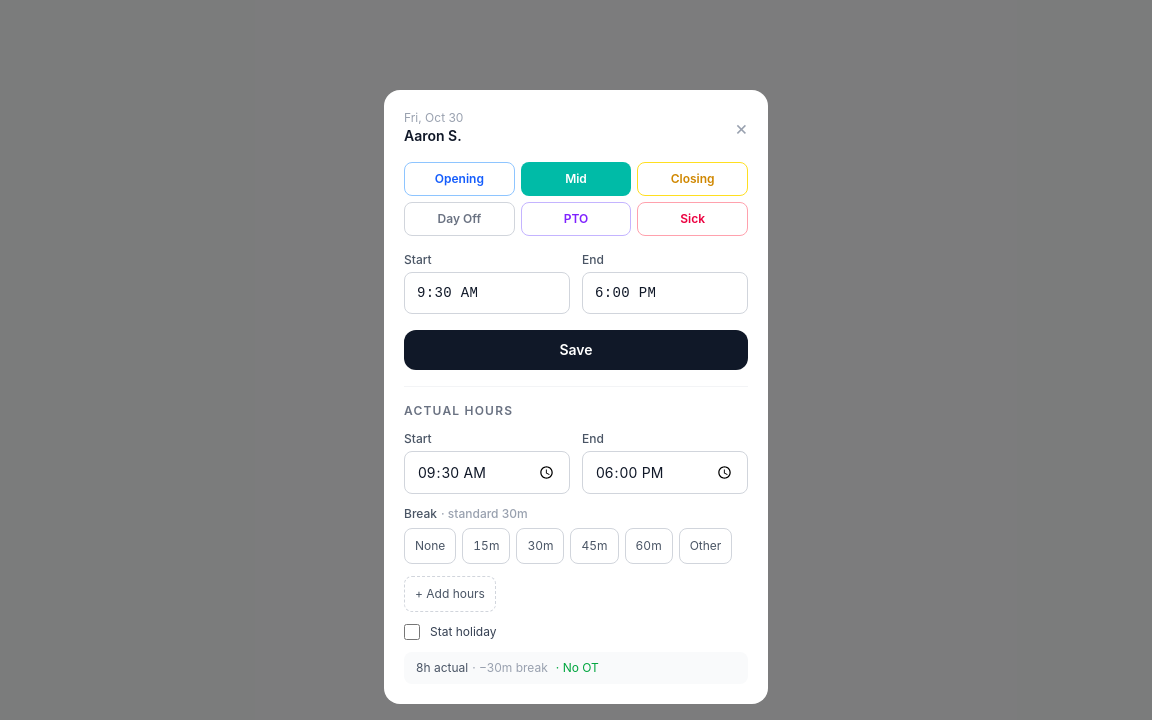
it: FlipShiftSheet — a day flipped to not worked › a [+] block with the same start and end is refused, not saved
The image size is (1152, 720).
Click the button "+ Add hours": click(450, 594) top-left (404, 576), bottom-right (496, 612)
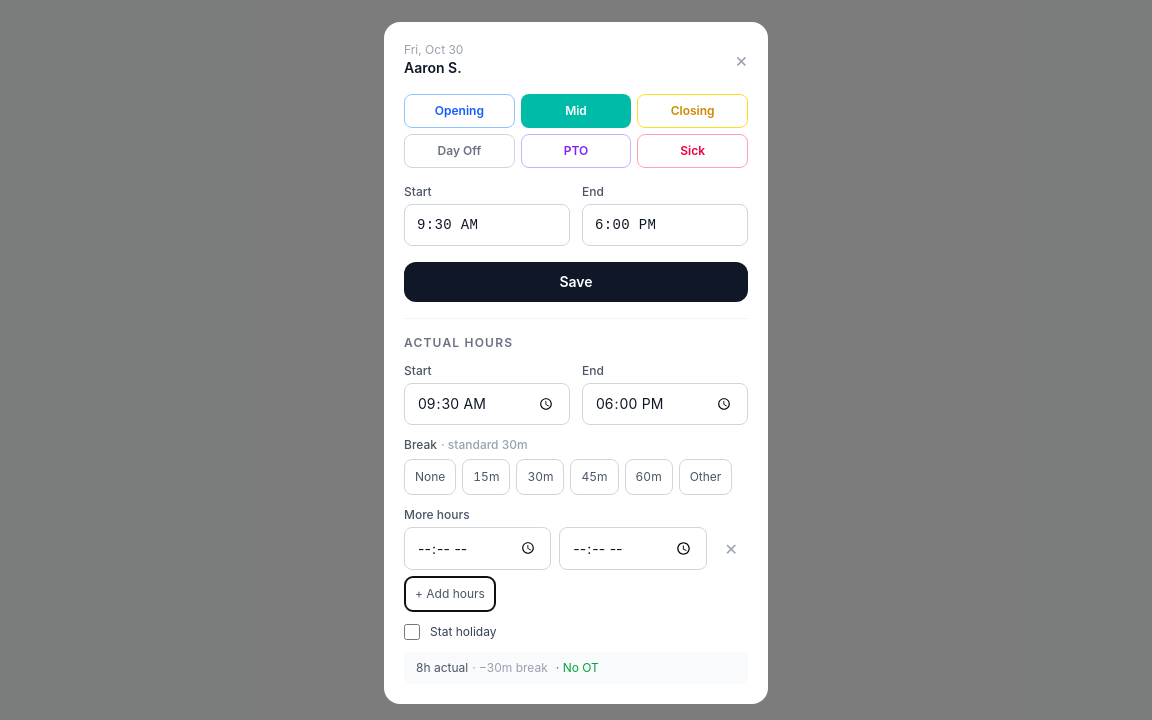
In the time field named "More hours 1 start": (478, 549) top-left (404, 527), bottom-right (551, 570), type "17:00"
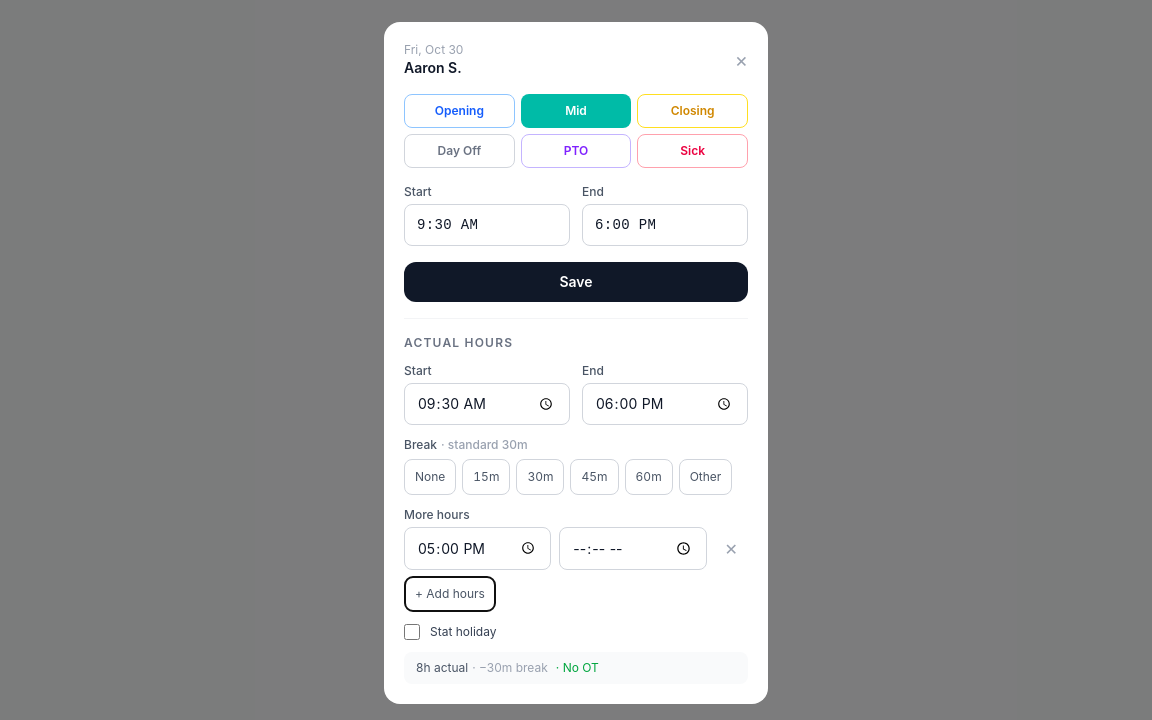
In the time field named "More hours 1 end": (633, 549) top-left (559, 527), bottom-right (707, 570), type "17:00"
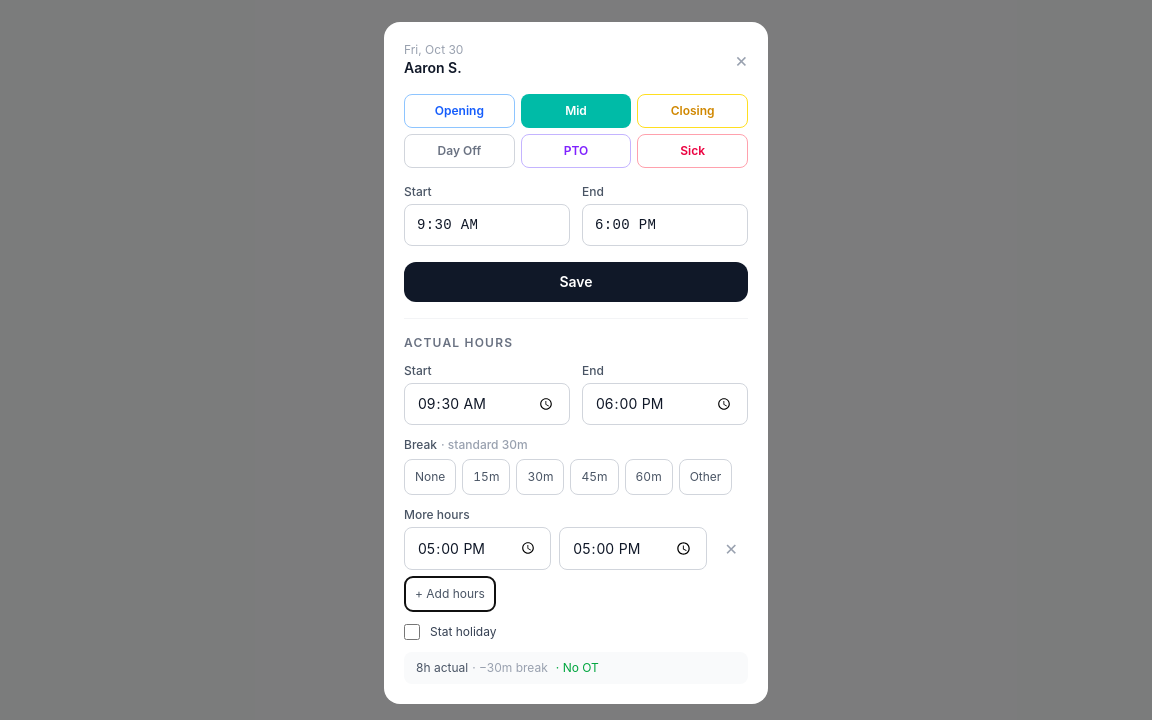
Click the button "Save": click(576, 282) top-left (404, 262), bottom-right (748, 302)
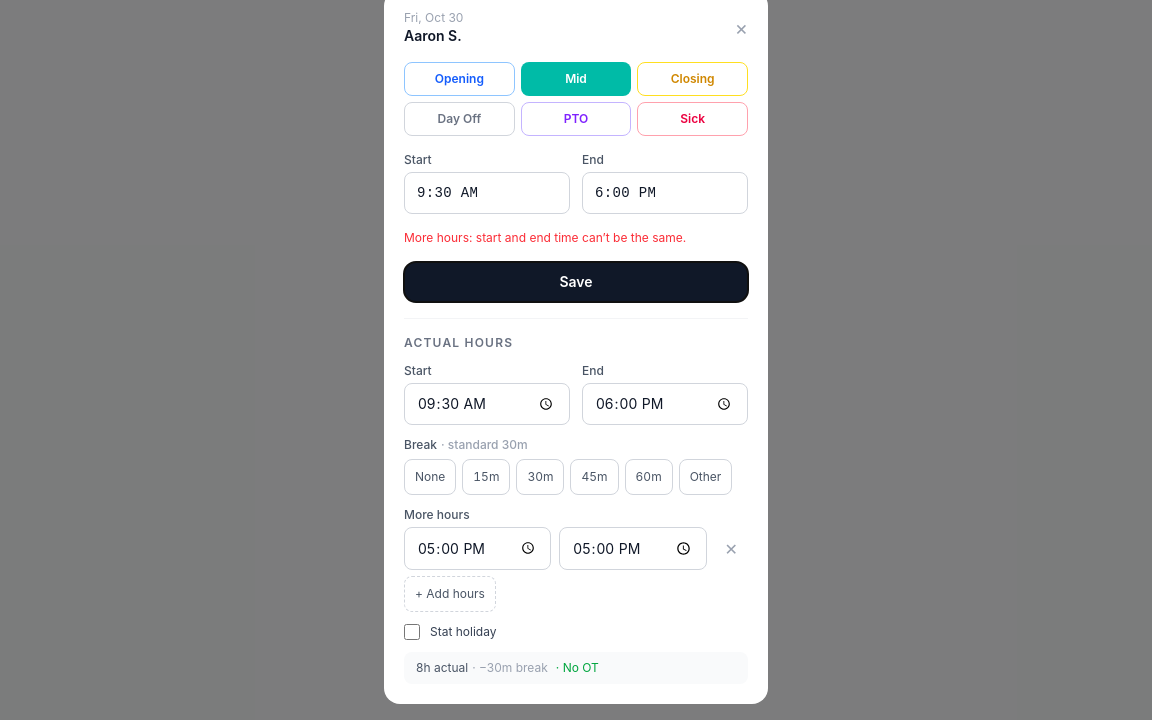
Check: the text "More hours: start and end time can’t be the same." is shown, box top-left (404, 230), bottom-right (686, 245)
